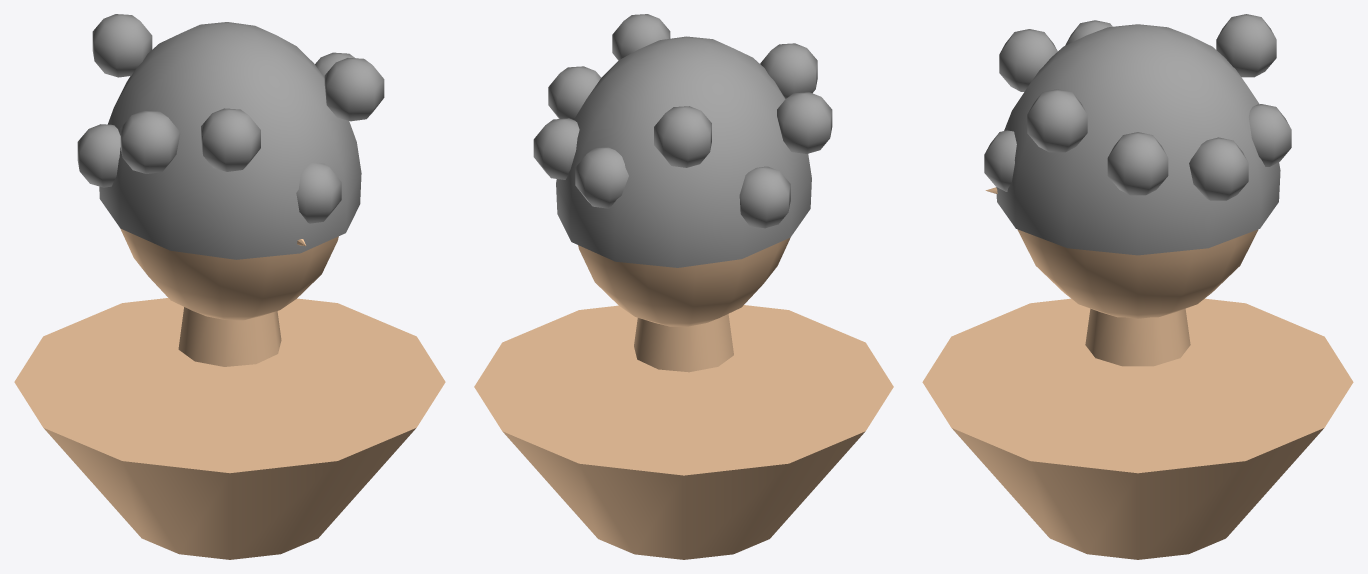
The model's file is raw_001.glb.
The picture shows the model from 3 angles, left to right: view 1: azimuth 30°, elevation 25°; view 2: azimuth 150°, elevation 25°; view 3: azimuth 270°, elevation 25°; orthographic projection. The views are drawn at different scales.
Size of the model in its own units: 1.72 by 2.13 by 1.72.
